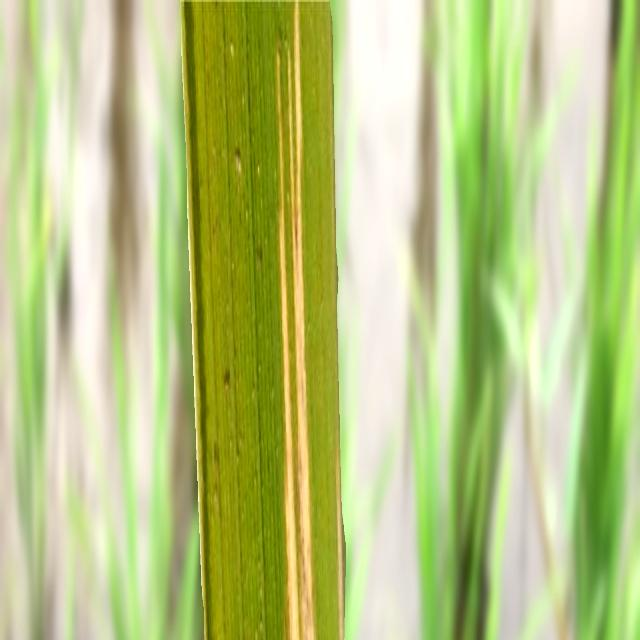BLS: (287, 1, 317, 640), (276, 42, 301, 640), (336, 406, 343, 640)
